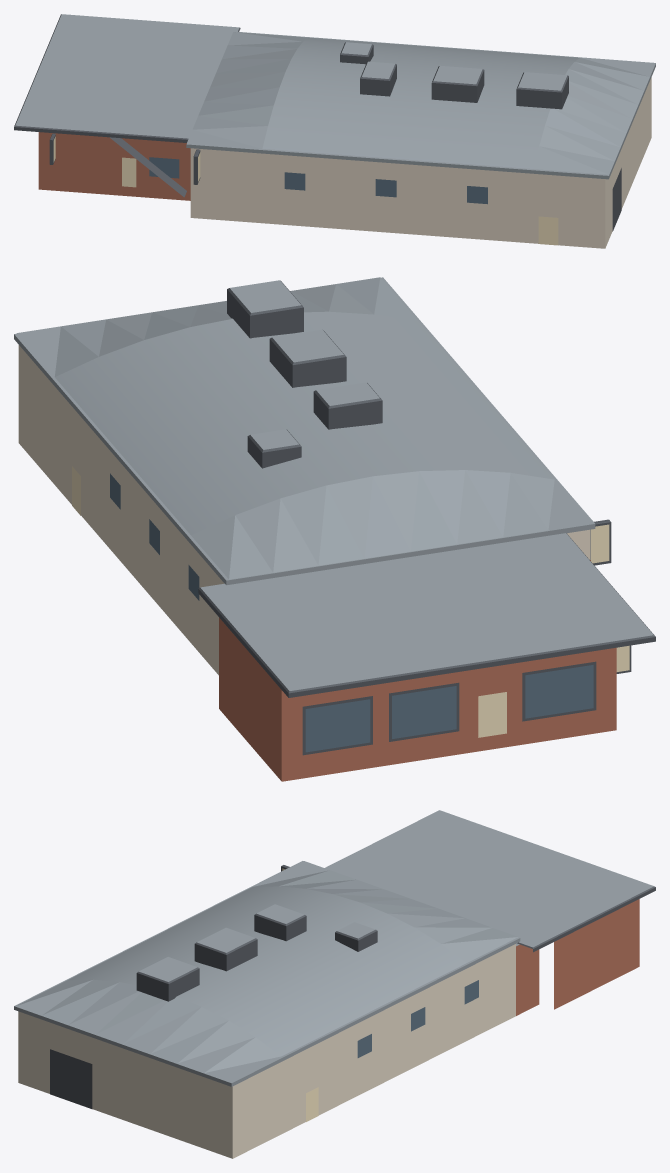
File: detail.glb
3 views of the same model, one above another, from view 1: azimuth 30°, elevation 25°; view 2: azimuth 150°, elevation 25°; view 3: azimuth 270°, elevation 25° (orthographic). The views are drawn at different scales.
Parts seen in each view (by area): view 1: amos-southend; view 2: amos-southend; view 3: amos-southend.
Part boxes in pixels (x1,y1,x2,y2): amos-southend: (14, 14, 655, 248); amos-southend: (14, 277, 655, 781); amos-southend: (14, 810, 655, 1158).
Size of the model in its own units: 47.34 by 9.4 by 46.32.
